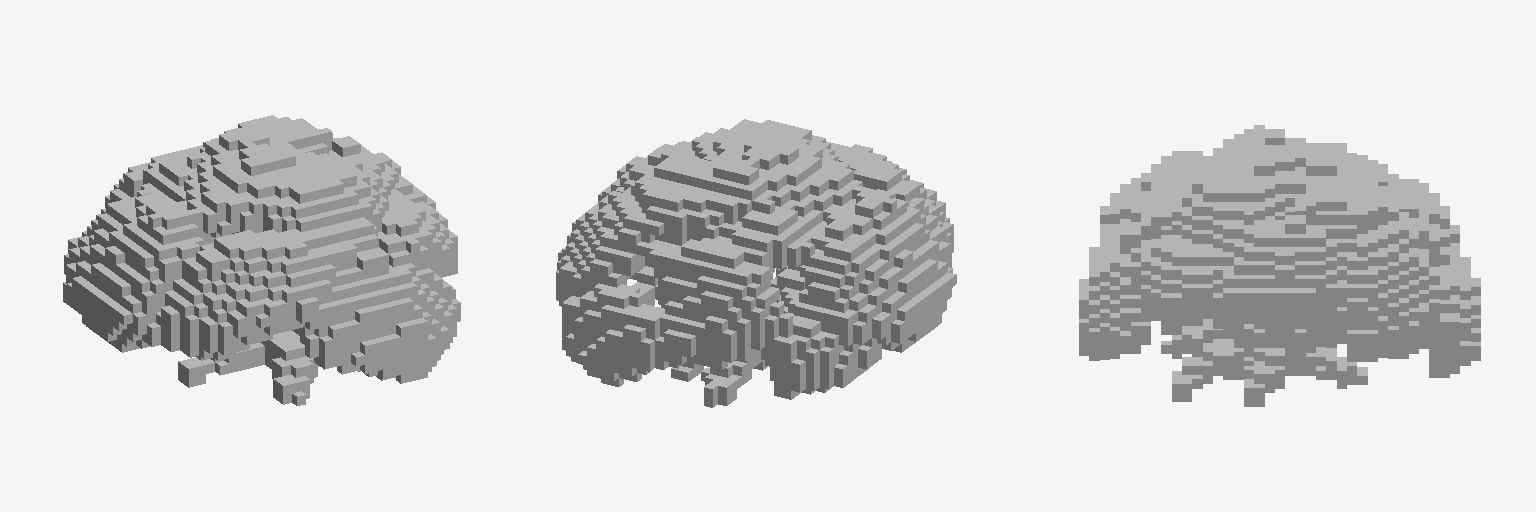
File: SwampTree.obj
3 views of the same model, side by side, from view 1: azimuth 30°, elevation 25°; view 2: azimuth 150°, elevation 25°; view 3: azimuth 270°, elevation 25° (orthographic).
Bounding box in the file's own units: 36 × 22 × 39.